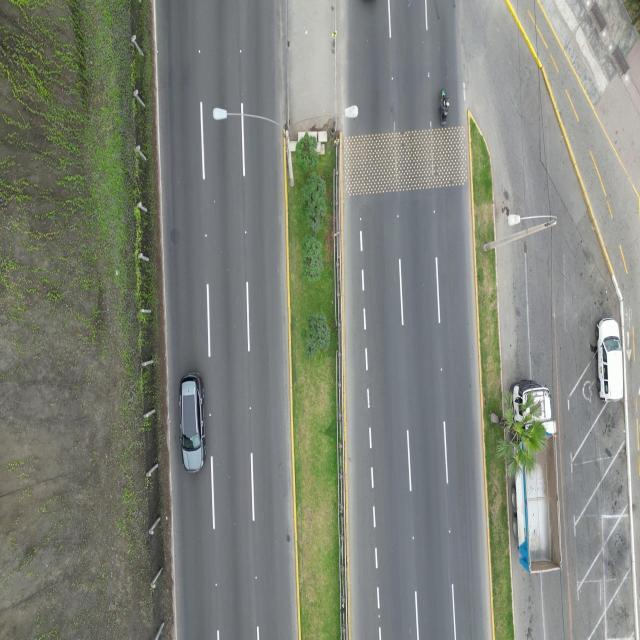Car: (170, 362, 212, 481), (592, 309, 631, 419)
Cycle: (428, 74, 457, 136)
Truck: (500, 358, 566, 579)
